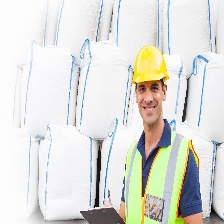helmet: (130, 44, 169, 85)
person: (116, 40, 204, 224)
vest: (124, 130, 203, 224)
